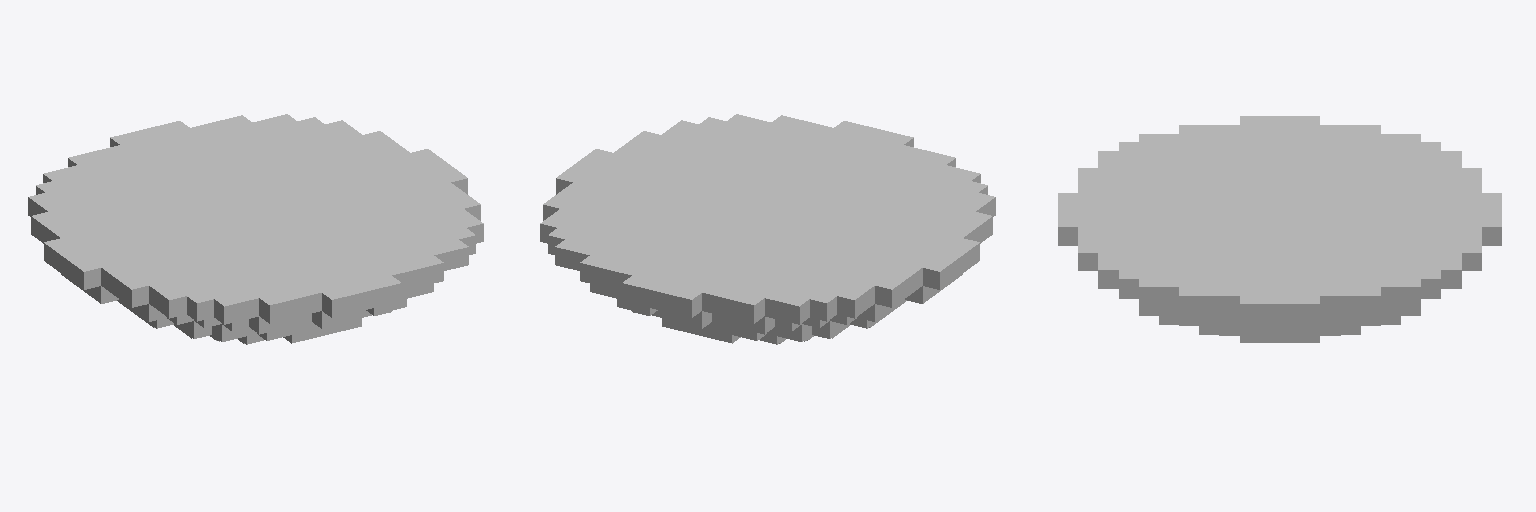
The model's file is Alien gunv2-0.obj.
The picture shows the model from 3 angles: view 1: azimuth 30°, elevation 25°; view 2: azimuth 150°, elevation 25°; view 3: azimuth 270°, elevation 25°; orthographic projection.
Parts seen in each view (by area): view 1: object 1; view 2: object 1; view 3: object 1.
Boxes of the visible parts, x1,y1,x2,y2 form: object 1: [28, 114, 483, 344]; object 1: [540, 114, 995, 344]; object 1: [1058, 116, 1501, 342].
Size of the model in its own units: 2.2 by 0.5 by 2.2.